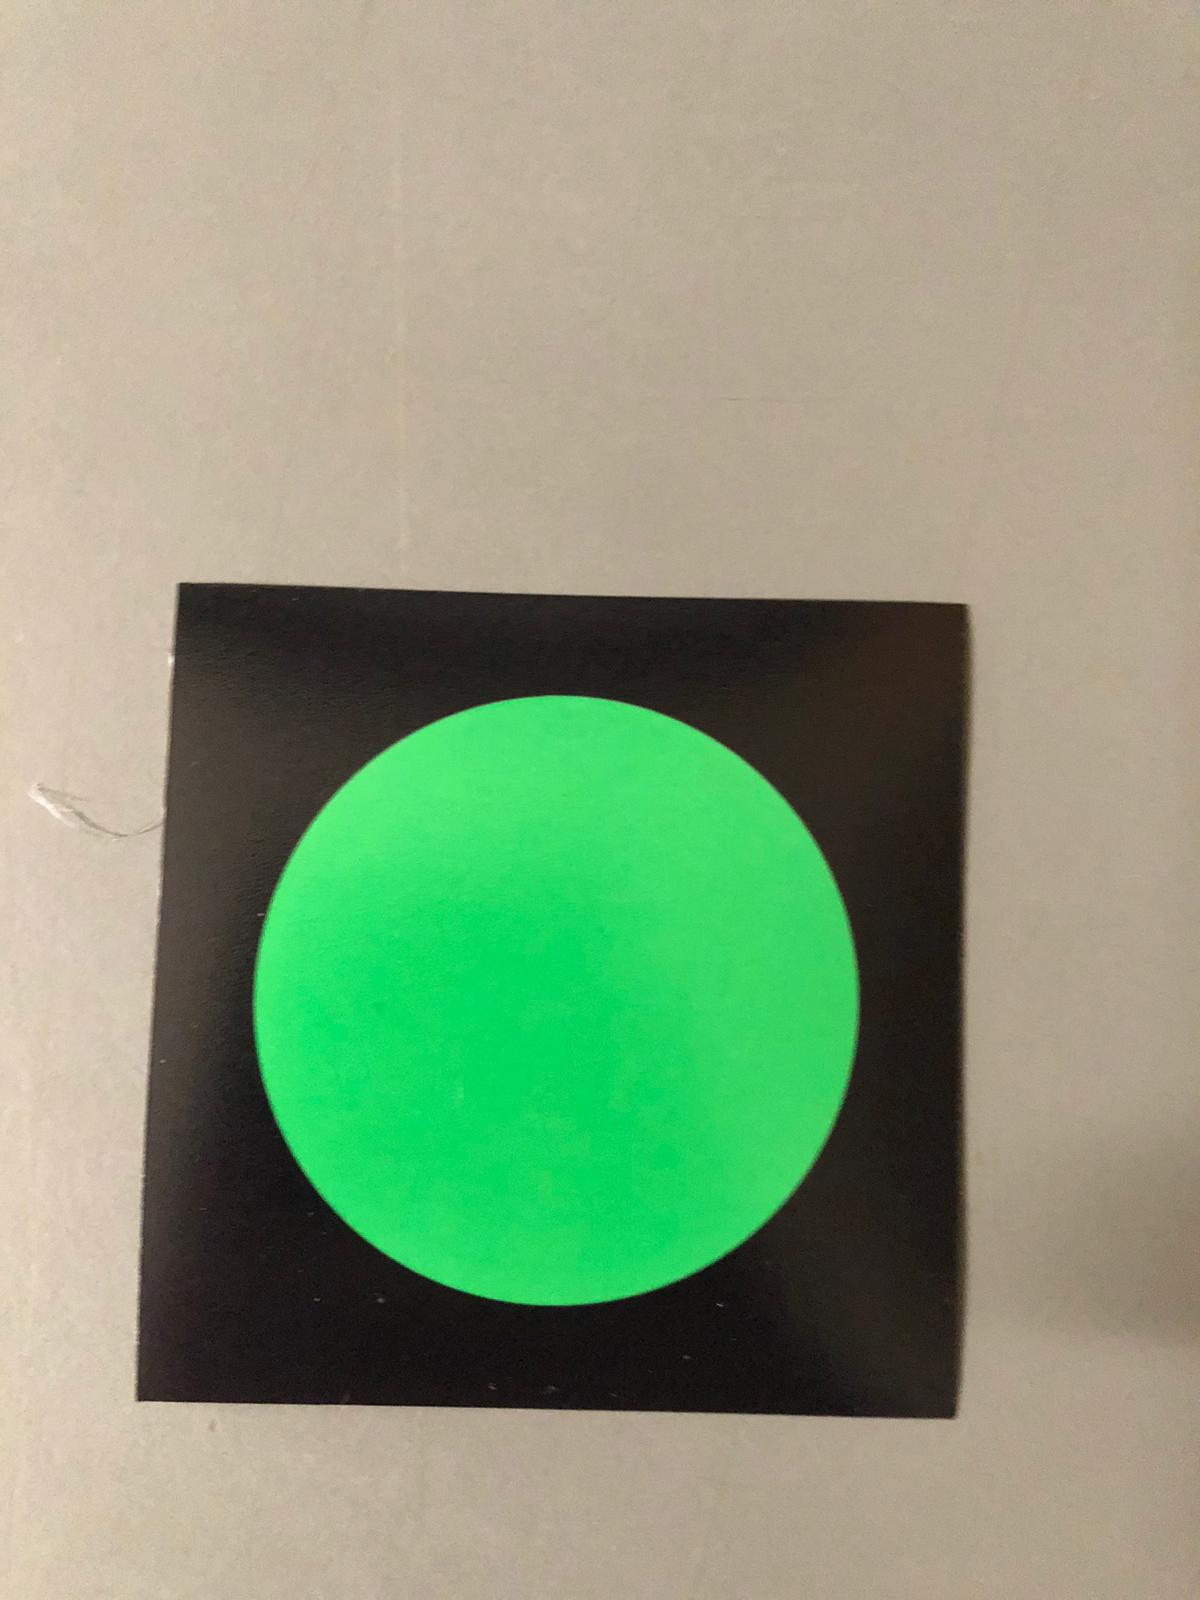Circle: (179, 601, 914, 1391)
